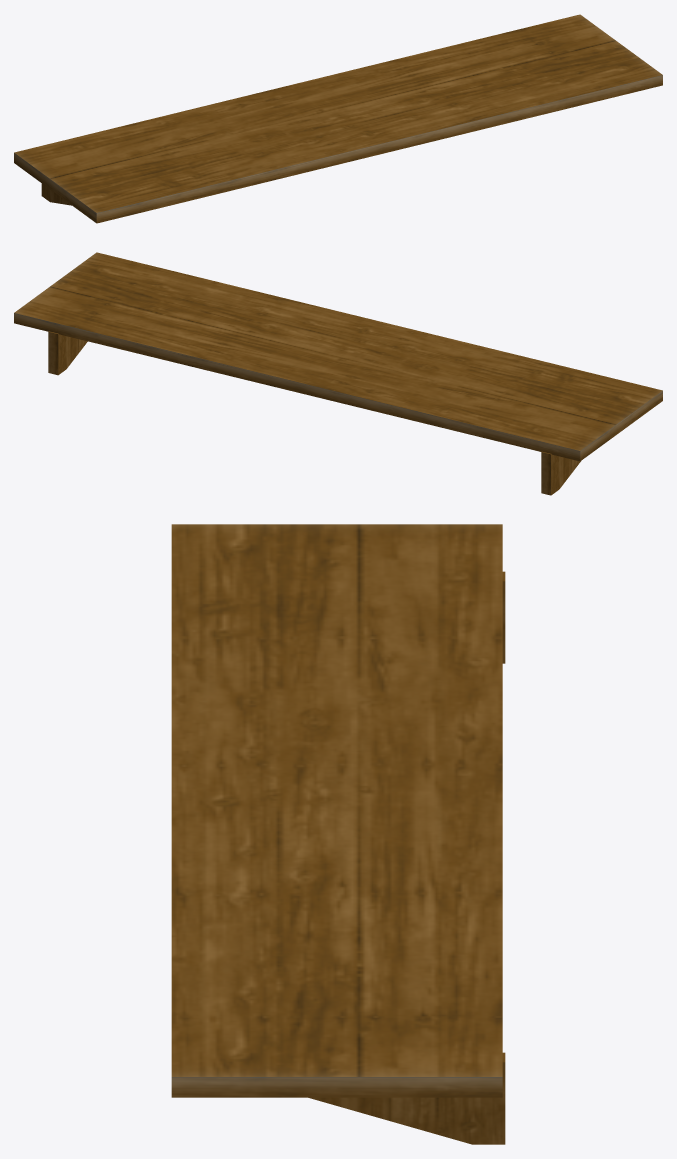
File: kitcentop03a.fbx
3 views of the same model, one above another, from view 1: azimuth 30°, elevation 25°; view 2: azimuth 150°, elevation 25°; view 3: azimuth 270°, elevation 25° (orthographic). The views are drawn at different scales.
Visible parts, largest first — view 1: kitcentop03a; view 2: kitcentop03a; view 3: kitcentop03a.
Boxes of the visible parts, x1,y1,x2,y2 form: kitcentop03a: (14,14,662,223); kitcentop03a: (14,252,662,495); kitcentop03a: (171,524,505,1144).
Bounding box in the file's own units: 185 × 15.95 × 47.32.
